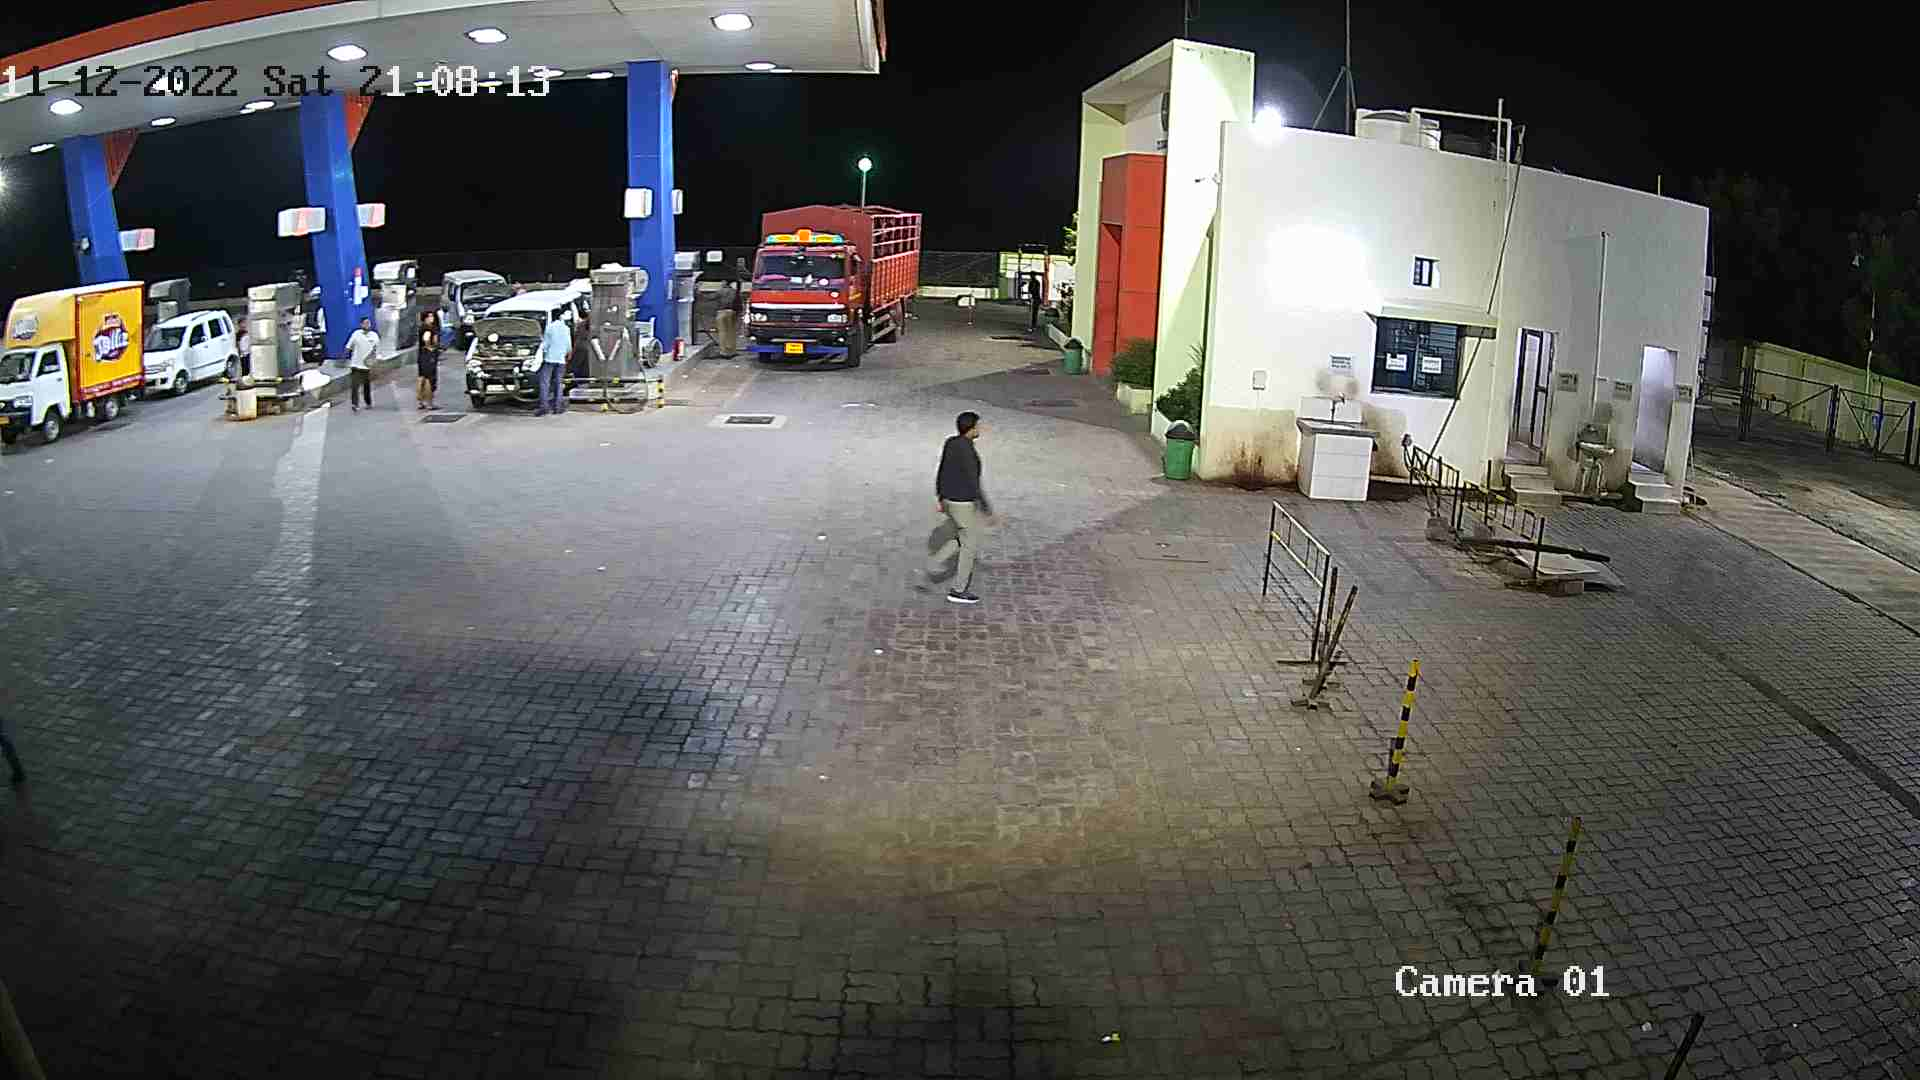Car: (0, 276, 152, 448), (456, 284, 591, 411), (137, 299, 244, 398), (429, 260, 513, 349), (287, 272, 332, 367)
HMV: (729, 198, 934, 373)
